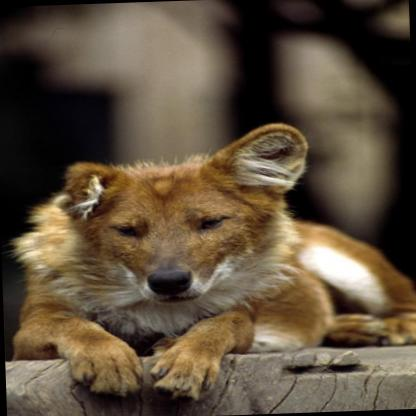dhole: (5, 118, 416, 410)
